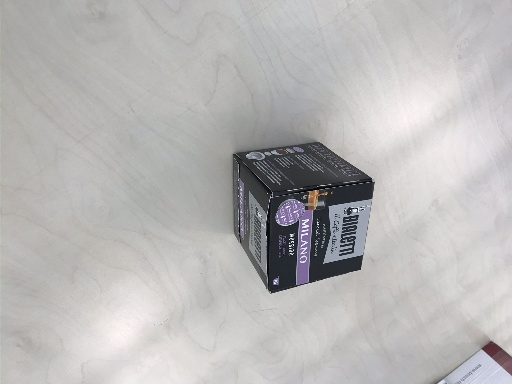Caffe: (231, 140, 377, 293)
